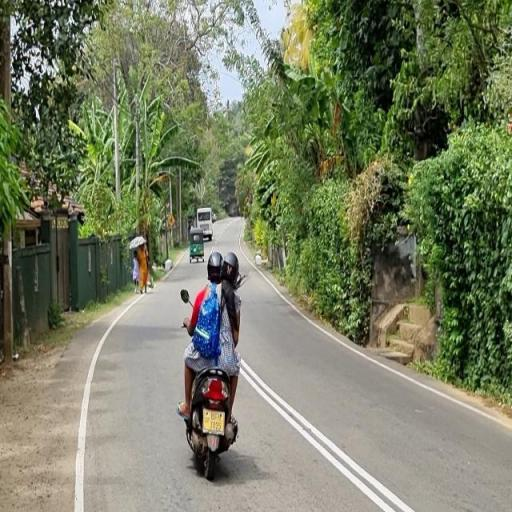double_white_line: (238, 354, 414, 510)
